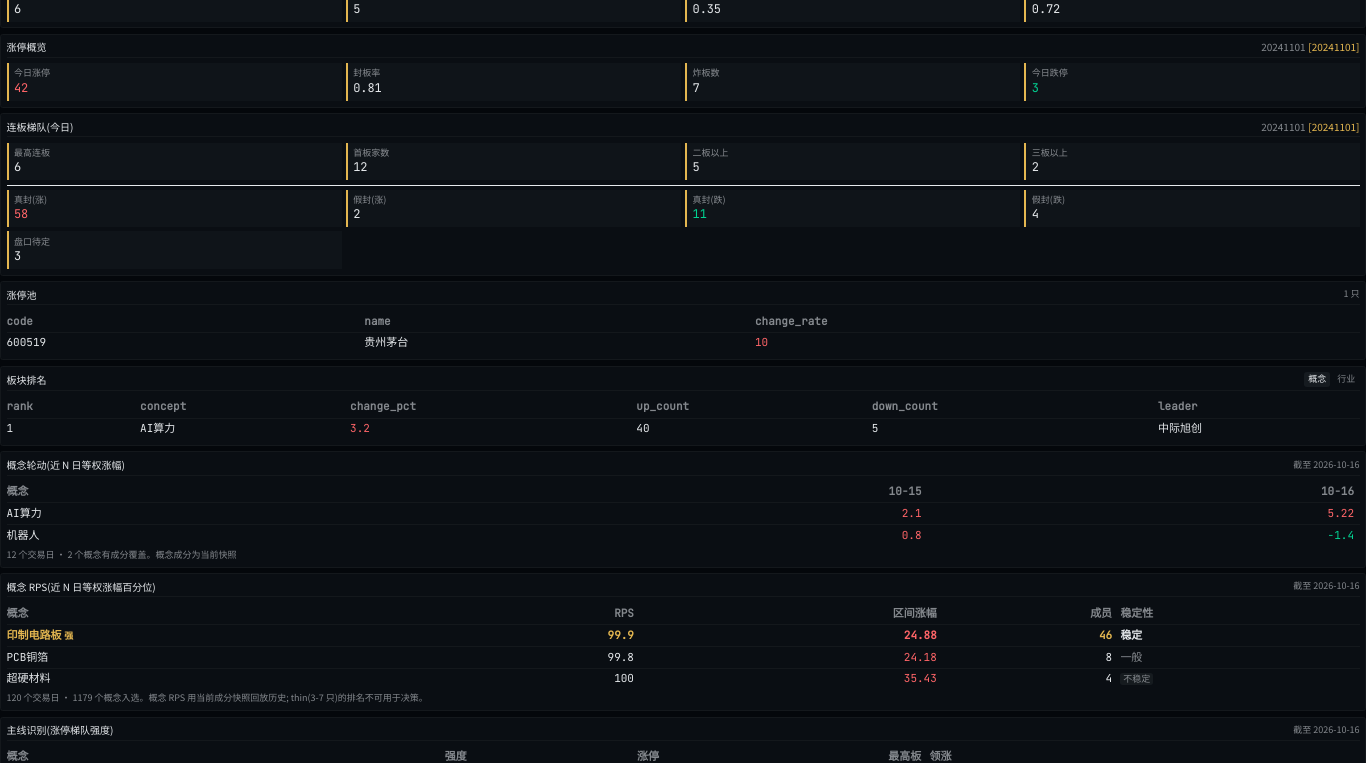
Test: AshareBoardPage › switches board kind to industry on toggle
(page scrolled)
Click the button "行业".
click(1346, 380)  # box [1333,372,1360,387]
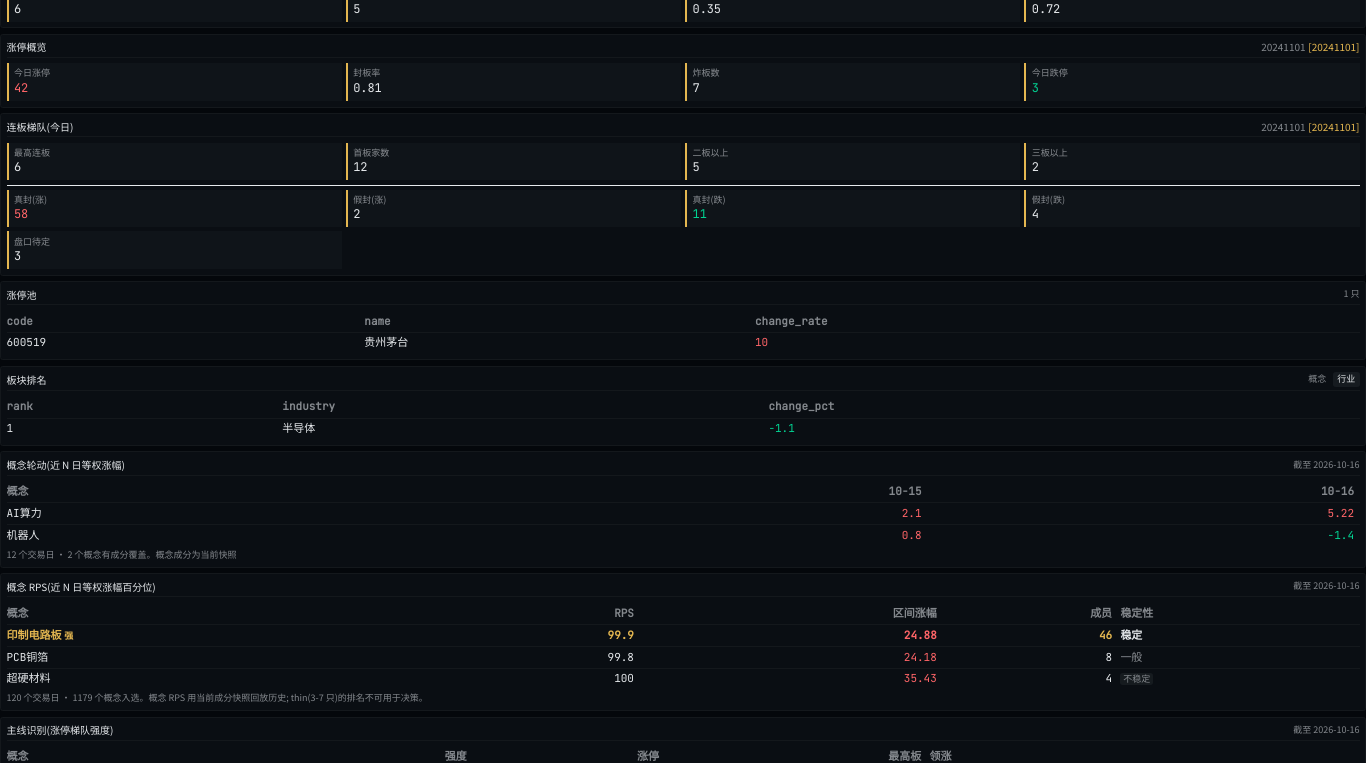
Check: the text "半导体" is shown, box [282,418,768,440]
